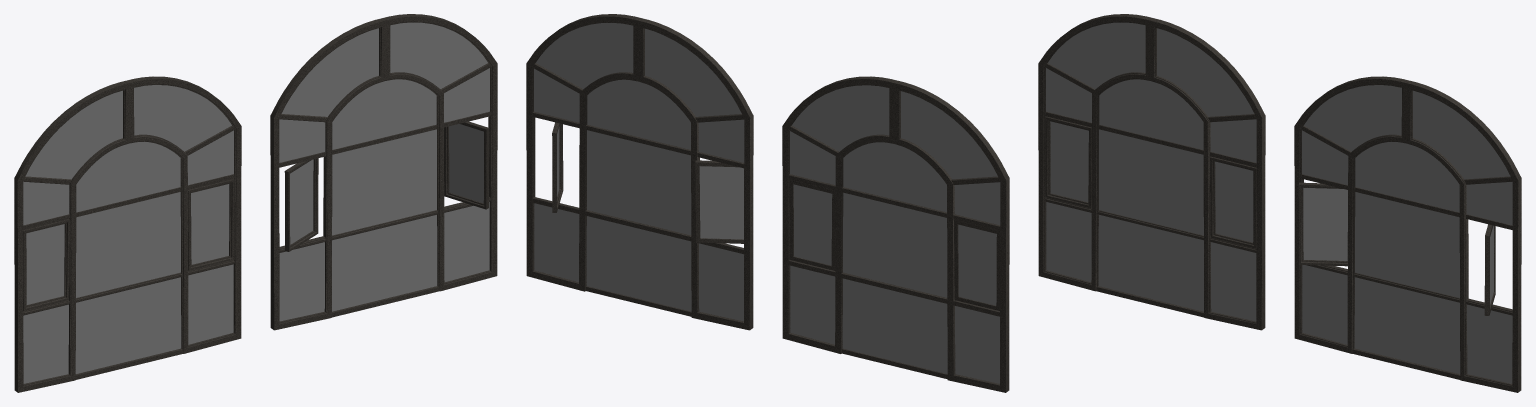
Rendered from window.glb.
3 views of the same model, side by side, from view 1: azimuth 30°, elevation 25°; view 2: azimuth 150°, elevation 25°; view 3: azimuth 330°, elevation 25° (orthographic).
Parts seen in each view (by area): view 1: f, f_2, win_2, win_1_2, win_1, win; view 2: f_2, f, win, win_1_2, win_2, win_1; view 3: f_2, f, win, win_1_2, win_2, win_1.
Boxes of the visible parts, x1,y1,x2,y2 form: f: [270, 14, 497, 330]; f_2: [14, 76, 241, 392]; win_2: [23, 219, 69, 310]; win_1_2: [188, 179, 234, 270]; win_1: [444, 121, 489, 209]; win: [284, 158, 318, 251]; f_2: [782, 76, 1009, 392]; f: [526, 14, 753, 330]; win: [695, 160, 743, 243]; win_1_2: [789, 179, 835, 270]; win_2: [954, 219, 1000, 310]; win_1: [552, 122, 563, 212]; f_2: [1038, 14, 1265, 330]; f: [1294, 76, 1521, 392]; win: [1298, 182, 1347, 266]; win_1_2: [1210, 156, 1256, 248]; win_2: [1045, 116, 1091, 208]; win_1: [1484, 224, 1495, 315].
Bounding box in the file's own units: 8.13 × 4.6 × 0.7494.
2 materials, 1 textured.
